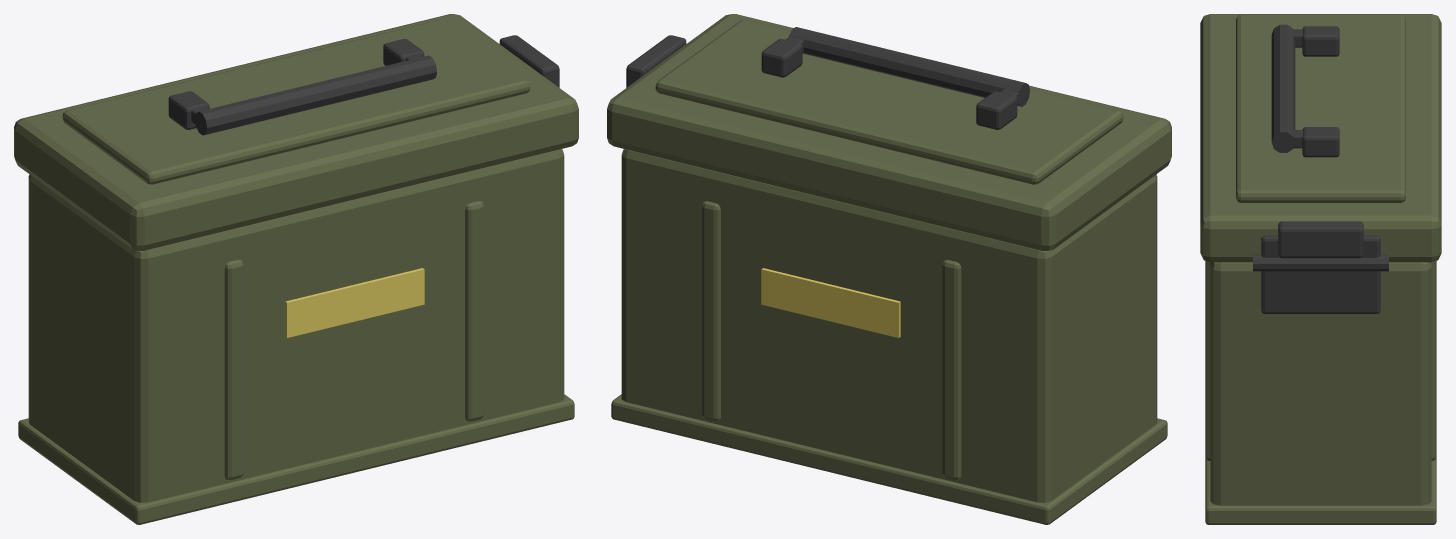
File: AmmoBox.fbx
3 renders of one model, left to right at view 1: azimuth 30°, elevation 25°; view 2: azimuth 150°, elevation 25°; view 3: azimuth 270°, elevation 25°, orthographic. The views are drawn at different scales.
Parts seen in each view (by area): view 1: AmmoBox; view 2: AmmoBox; view 3: AmmoBox.
Part boxes in pixels (bbox=[...]): AmmoBox: bbox=[14, 14, 578, 524]; AmmoBox: bbox=[607, 14, 1171, 524]; AmmoBox: bbox=[1200, 14, 1441, 524].
Bounding box in the file's own units: 0.304 × 0.2237 × 0.142.
